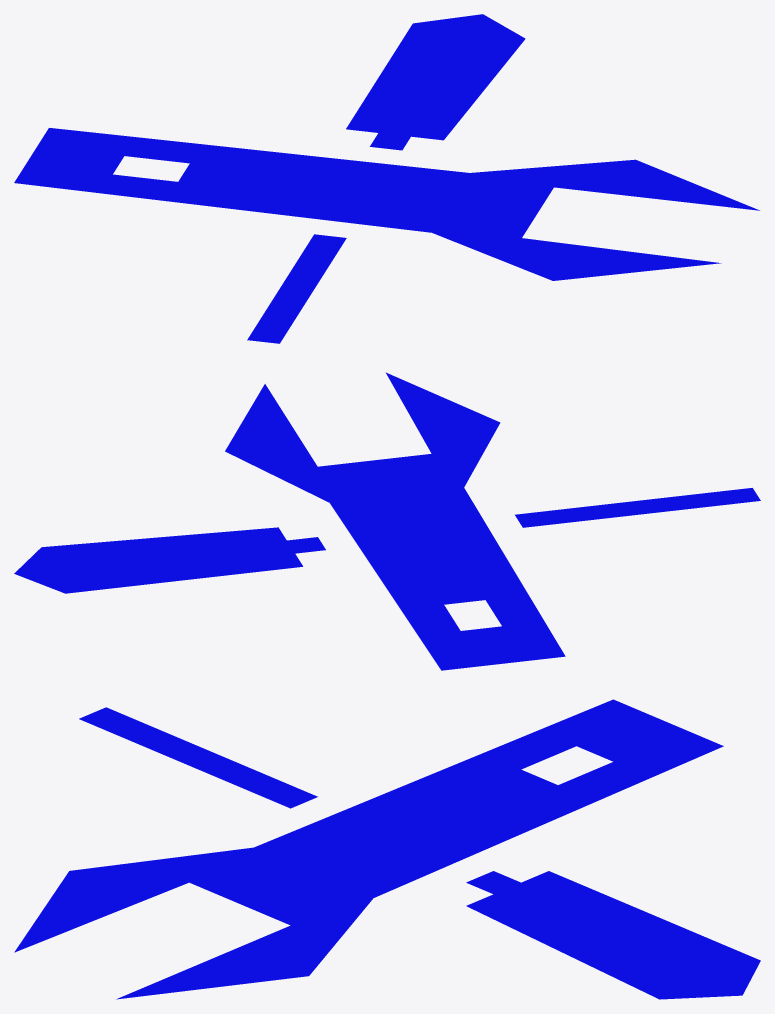
3 renders of one model, top to bottom at view 1: azimuth 30°, elevation 25°; view 2: azimuth 150°, elevation 25°; view 3: azimuth 270°, elevation 25°, orthographic. The views are drawn at different scales.
Visible parts, largest first — view 1: material_05; view 2: material_05; view 3: material_05.
Boxes of the visible parts, x1=… form: material_05: x1=14, y1=14, x2=759, y2=343; material_05: x1=14, y1=372, x2=760, y2=670; material_05: x1=14, y1=699, x2=760, y2=999.
Bounding box in the file's own units: 0.643 × 0.6764 × 0.
